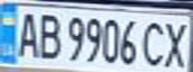0: (103, 15, 121, 65)
6: (118, 16, 142, 66)
9: (60, 12, 84, 63), (81, 13, 103, 64)
A: (9, 8, 42, 59)
B: (33, 10, 63, 61)
C: (139, 17, 169, 68)
X: (160, 18, 193, 69)
